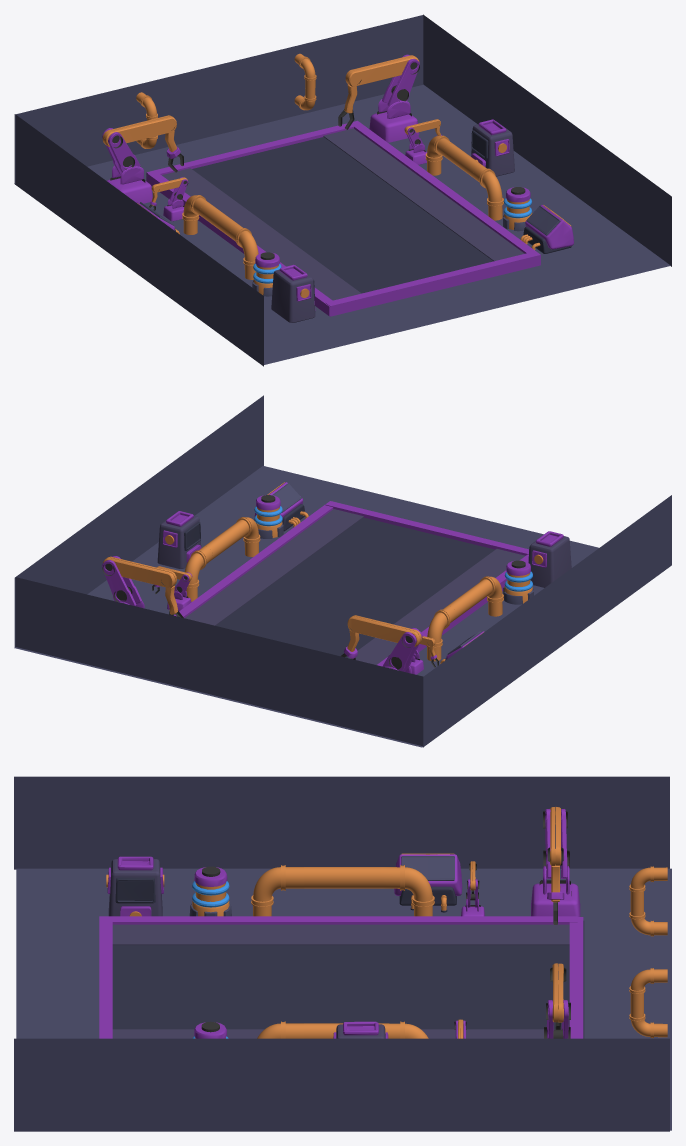
Rendered from map1.fbx.
3 views of the same model, one above another, from view 1: azimuth 30°, elevation 25°; view 2: azimuth 150°, elevation 25°; view 3: azimuth 270°, elevation 25° (orthographic). The views are drawn at different scales.
Visible parts, largest first — view 1: Cylinder.004, Cube, Plane.004, Plane.003, Plane.001, Cube.005, Cube.004, Cube.001, Cylinder.034, Cylinder.020, tube_corner.001, mesh.001 (+9 smaller); view 2: Plane.004, Cube, Plane.003, Plane.001, Cylinder.004, Cube.005, Cube.001, Cylinder.034, Cube.004, Cylinder.020, tube_corner, mesh.002 (+6 smaller); view 3: Plane.001, Plane.003, Cylinder.004, Cube, Cube.001, Cube.004, tube_corner, Cylinder.020, mesh.001, Cylinder.012, Cube.005, mesh.013 (+6 smaller).
Part boxes in pixels (<box>): Cylinder.004: <box>14,84,670,364</box>; Cube: <box>146,137,493,293</box>; Plane.004: <box>15,15,423,184</box>; Plane.003: <box>14,114,263,366</box>; Plane.001: <box>423,14,671,266</box>; Cube.005: <box>323,128,524,261</box>; Cube.004: <box>147,171,540,316</box>; Cube.001: <box>162,168,361,300</box>; Cylinder.034: <box>338,54,419,142</box>; Cylinder.020: <box>102,115,183,203</box>; tube_corner.001: <box>425,135,503,220</box>; mesh.001: <box>271,264,315,322</box>; Plane.004: <box>15,577,423,746</box>; Cube: <box>216,517,494,657</box>; Plane.003: <box>423,495,671,747</box>; Plane.001: <box>14,395,263,646</box>; Cylinder.004: <box>14,466,598,747</box>; Cube.005: <box>185,509,363,625</box>; Cube.001: <box>348,549,525,664</box>; Cylinder.034: <box>102,556,183,617</box>; Cube.004: <box>325,501,528,666</box>; Cylinder.020: <box>341,615,422,673</box>; tube_corner: <box>426,576,503,661</box>; mesh.002: <box>157,511,201,568</box>; Plane.001: <box>14,1038,669,1131</box>; Plane.003: <box>14,776,669,869</box>; Cylinder.004: <box>16,868,671,1130</box>; Cube: <box>112,920,584,1038</box>; Cube.001: <box>112,924,569,945</box>; Cube.004: <box>99,916,577,1038</box>; tube_corner: <box>251,865,434,916</box>; Cylinder.020: <box>531,807,580,924</box>; mesh.001: <box>106,856,164,916</box>; Cylinder.012: <box>394,853,462,912</box>; Cube.005: <box>112,1029,561,1038</box>; mesh.013: <box>189,866,231,916</box>.
Size of the model in its own units: 9274 by 1601 by 9826.
